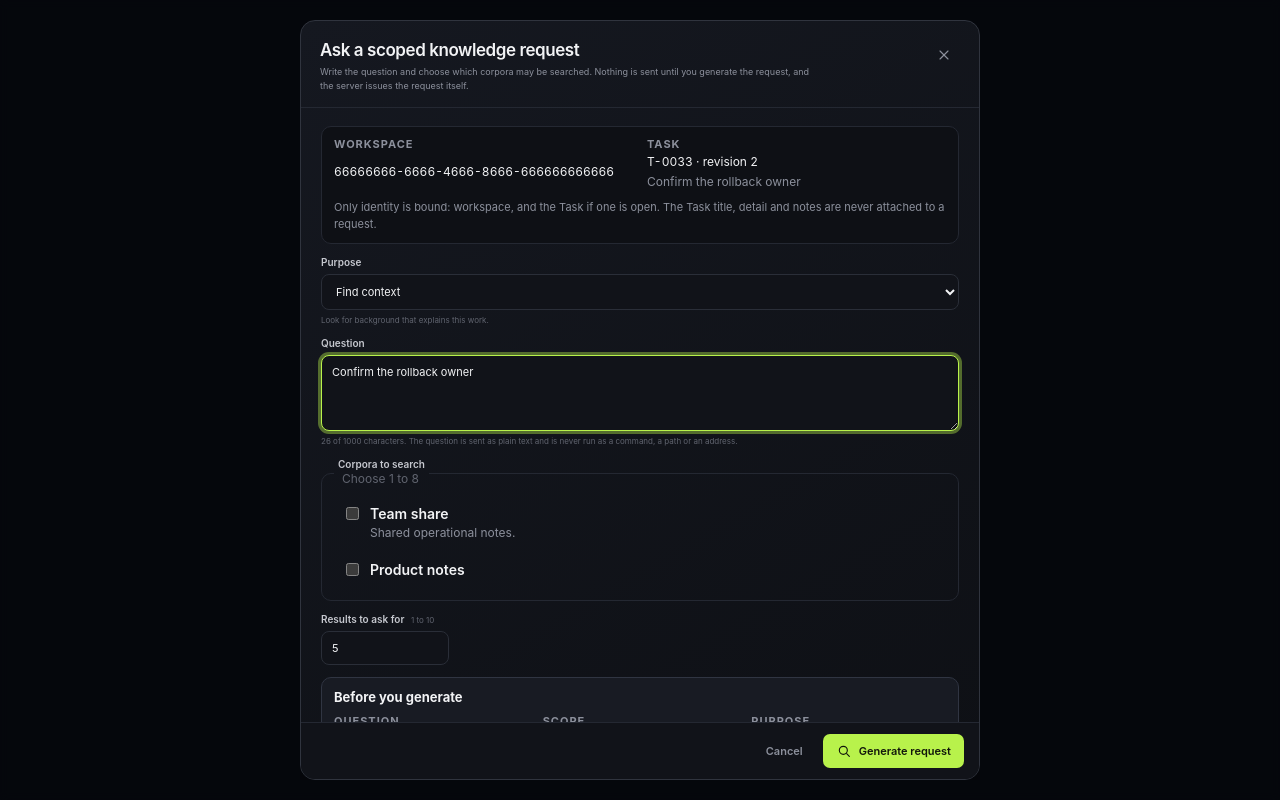
it: an issuer refusal the parent actually read leaves an authored error and no receipt
Replace the text in the text box labelled "Question" with "rollback verification owner" at {"x": 640, "y": 393}, box [321,355,959,431]
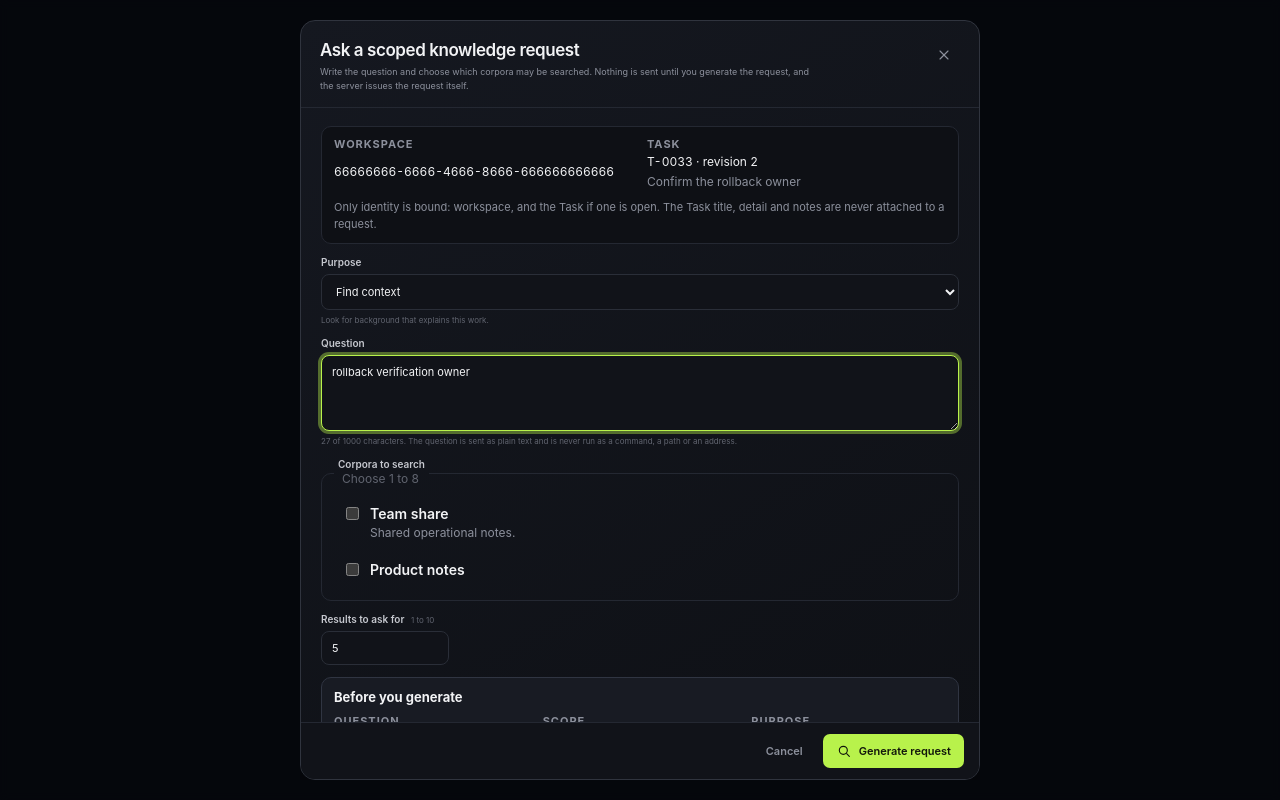
Click the checkbox labelled "Team share Shared operational notes.".
click(352, 514)  # box [346,507,359,520]
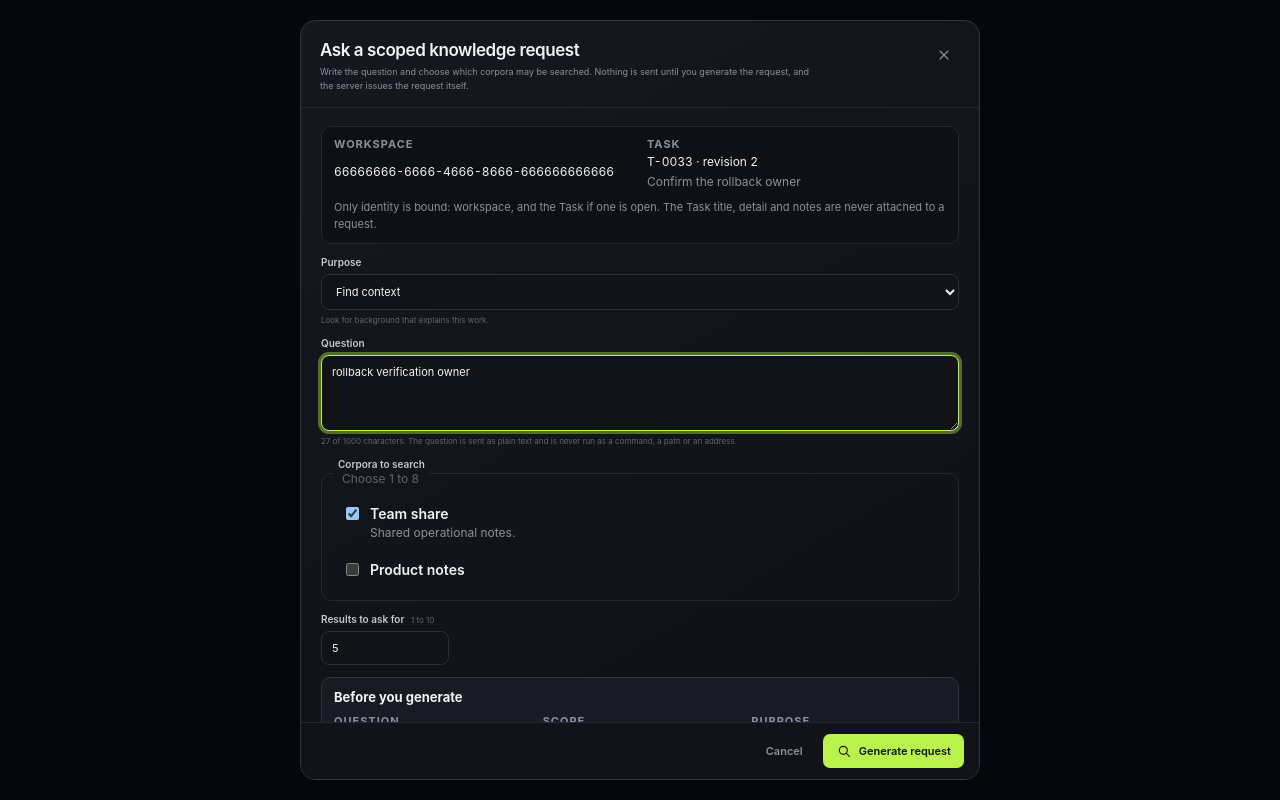
Click the button "Generate request".
click(893, 751)  # box [823,734,964,768]
(page scrolled)
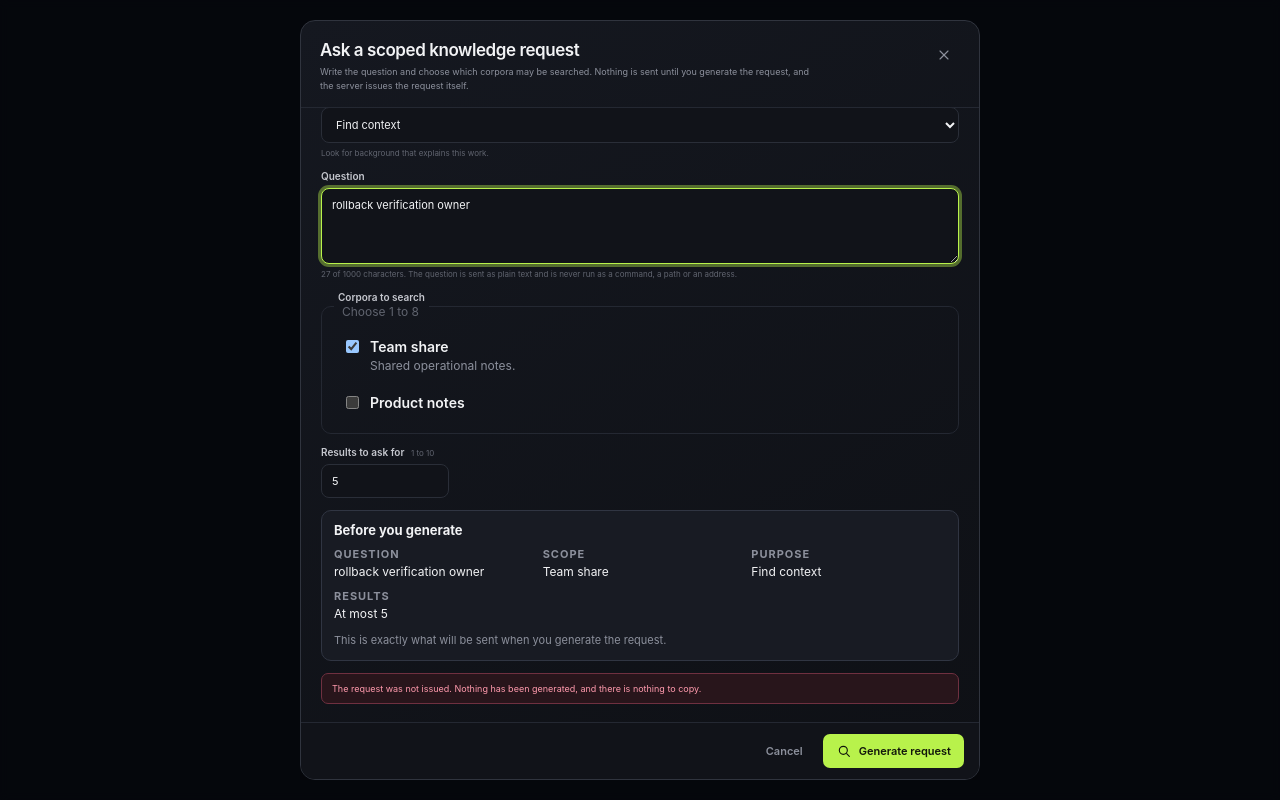
Expected: the message shows "The request was not issued", [332,683,701,694]
